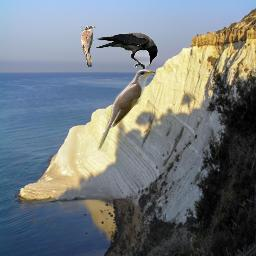Crow: (94, 32, 158, 69)
Cuckoo: (96, 69, 156, 152), (81, 26, 96, 67)
